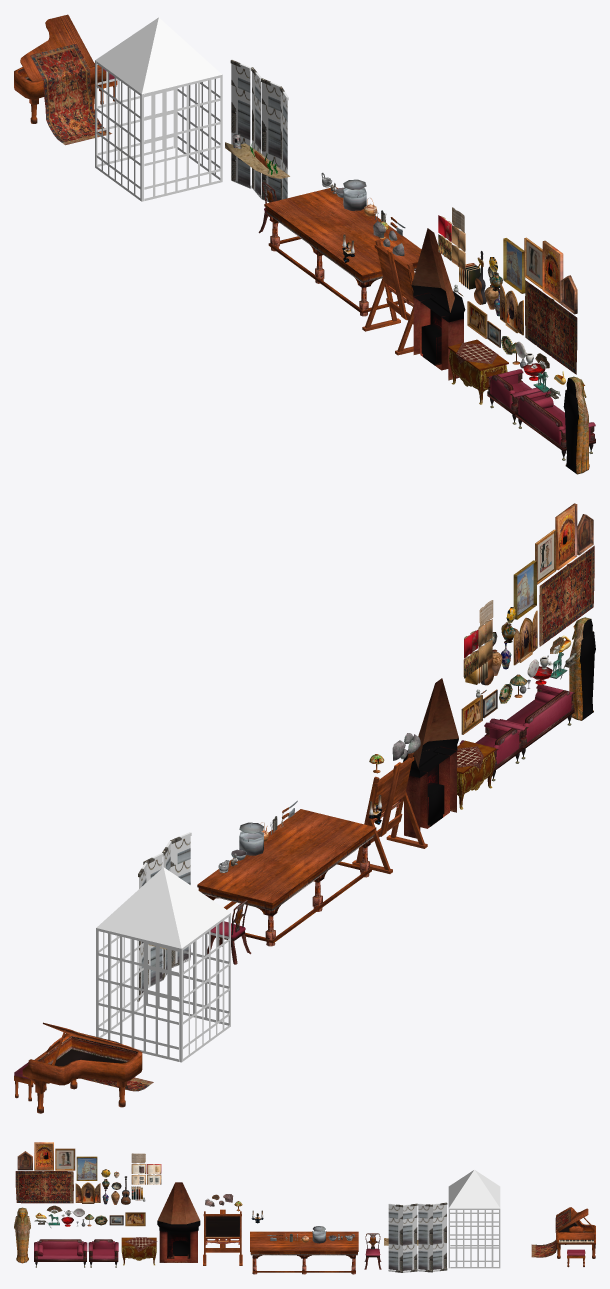
The model's file is AssestsPreencher.fbx.
3 views of the same model, one above another, from view 1: azimuth 30°, elevation 25°; view 2: azimuth 150°, elevation 25°; view 3: azimuth 270°, elevation 25° (orthographic). The views are drawn at different scales.
Parts seen in each view (by area): view 1: Grade, MesaBiblioteca, Piano, Lareira, TapeteTurco, QuadroNegro, SofaGrande, Sarcofago, Plane.003, Plane.001, MesaDourada, Poltrona (+7 smaller); view 2: Grade, MesaBiblioteca, Piano, Lareira, TapeteTurco, QuadroNegro, SofaGrande, Sarcofago, Poltrona, MesaDourada, QuadroCulto, Plane (+3 smaller); view 3: Grade, MesaBiblioteca, Lareira, TapeteTurco, Piano, QuadroNegro, SofaGrande, Plane.002, Plane.001, Plane, Plane.003, Sarcofago (+11 smaller).
Part boxes in pixels (x1,y1,x2,y2): Grade: [95, 17, 222, 201]; MesaBiblioteca: [264, 187, 421, 316]; Piano: [14, 14, 111, 145]; Lareira: [411, 228, 465, 380]; TapeteTurco: [525, 280, 577, 374]; QuadroNegro: [362, 239, 414, 355]; SofaGrande: [515, 391, 595, 460]; Sarcofago: [563, 376, 589, 474]; Plane.003: [230, 60, 251, 188]; Plane.001: [261, 78, 281, 201]; MesaDourada: [448, 339, 508, 404]; Poltrona: [487, 369, 540, 424]; Grade: [96, 867, 230, 1062]; MesaBiblioteca: [197, 809, 376, 946]; Piano: [22, 1022, 153, 1113]; Lareira: [403, 678, 458, 838]; TapeteTurco: [539, 545, 594, 646]; QuadroNegro: [352, 752, 427, 873]; SofaGrande: [489, 685, 574, 759]; Sarcofago: [569, 617, 595, 720]; Poltrona: [459, 722, 522, 781]; MesaDourada: [457, 740, 496, 809]; QuadroCulto: [555, 503, 577, 570]; Plane: [170, 832, 191, 967]; Grade: [448, 1169, 500, 1268]; MesaBiblioteca: [250, 1231, 358, 1274]; Lareira: [157, 1182, 200, 1262]; TapeteTurco: [15, 1171, 73, 1203]; Piano: [531, 1207, 595, 1258]; QuadroNegro: [203, 1209, 242, 1265]; SofaGrande: [34, 1239, 87, 1267]; Plane.002: [418, 1203, 432, 1272]; Plane.001: [403, 1203, 417, 1272]; Plane: [388, 1203, 402, 1272]; Plane.003: [432, 1202, 447, 1271]; Sarcofago: [14, 1207, 30, 1263].
Bounding box in the file's own units: 3.44 × 5.35 × 24.19.
